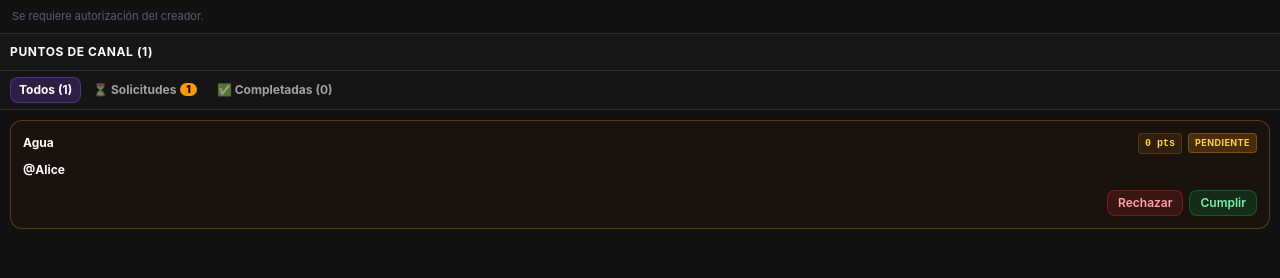
it: RewardsQueuePanel › shows failed updates and enables the action again
Expected: the message reads "Se requiere autorización del creador.", 12,9 -> 204,23
Click the button "Cumplir". click: (1223, 202)
box: 1190,190 -> 1257,216
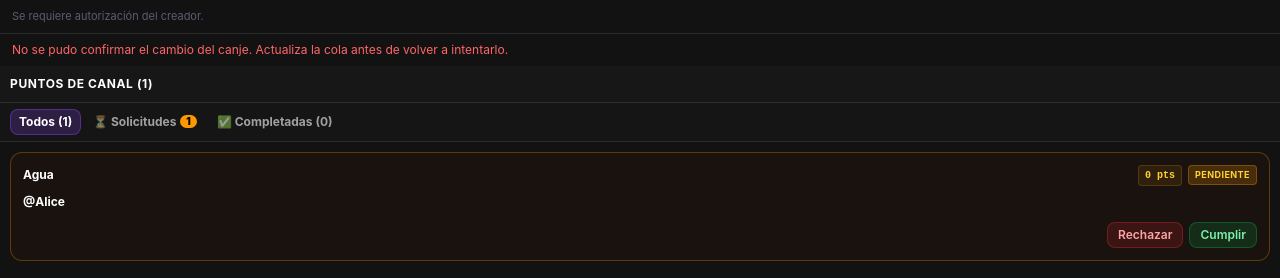
Expected: the button "Cumplir" is enabled, 1190,222 -> 1257,248
Expected: the 2nd message shows "No se pudo confirmar el cambio del canje.", 12,42 -> 508,56
